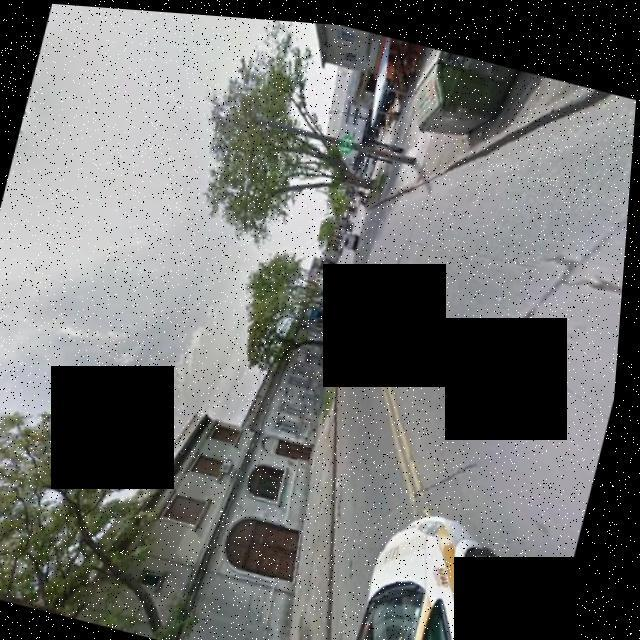bin: (395, 35, 530, 151)
